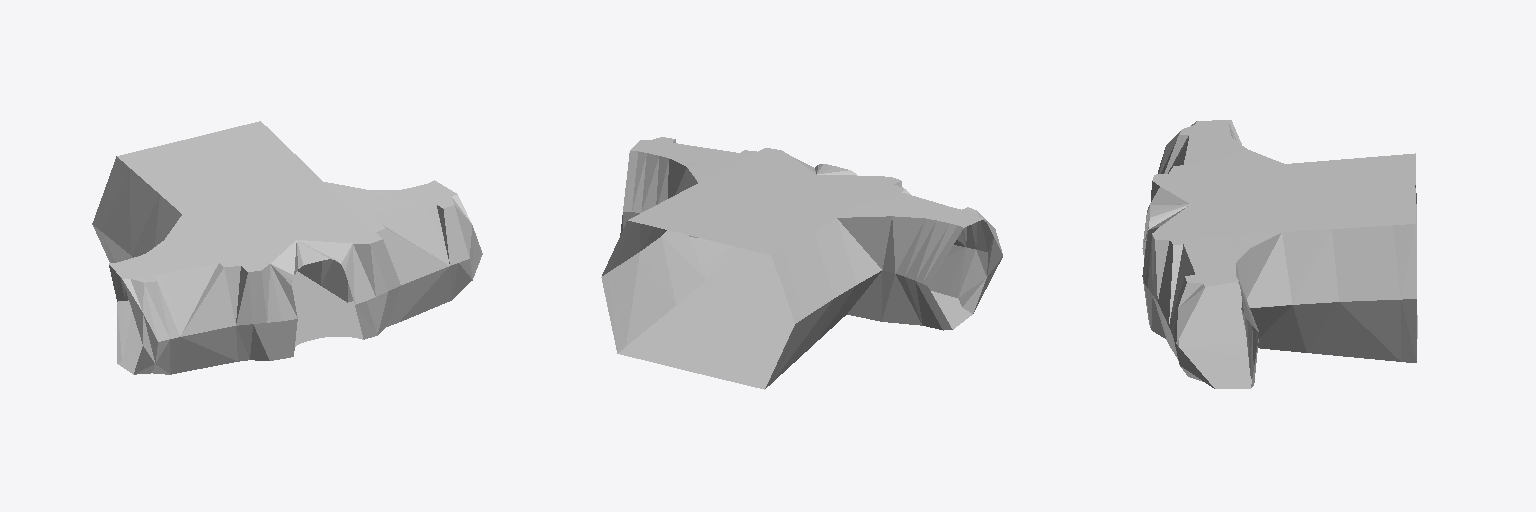
Rendered from tshirt_sub.obj.
The picture shows the model from 3 angles: view 1: azimuth 30°, elevation 25°; view 2: azimuth 150°, elevation 25°; view 3: azimuth 270°, elevation 25°; orthographic projection.
Visible parts, largest first — view 1: tshirt.004; view 2: tshirt.004; view 3: tshirt.004.
Boxes of the visible parts, x1,y1,x2,y2 form: tshirt.004: [92, 121, 482, 374]; tshirt.004: [601, 137, 1002, 389]; tshirt.004: [1142, 120, 1417, 388].
Size of the model in its own units: 0.8839 by 0.3261 by 0.6017.